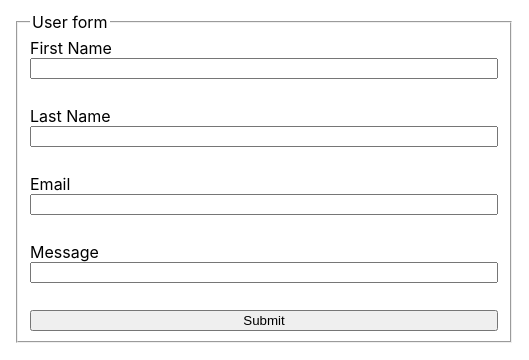
Test case: UserForm › input validation message should disappear on value change
Click the button with test id "submit-btn" at coordinates (264, 320), box [30,310,498,331]
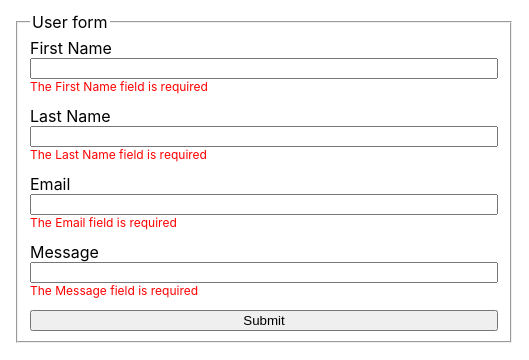
Result: the text with test id "firstName-error" reads "The First Name field is required" at [30,79,208,94]
Type "firstName 1" into the field with test id "firstName-input" at coordinates (264, 68), box [30,58,498,79]
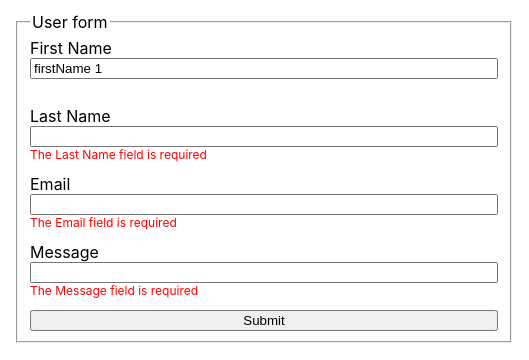
Result: the text with test id "firstName-error" is gone
